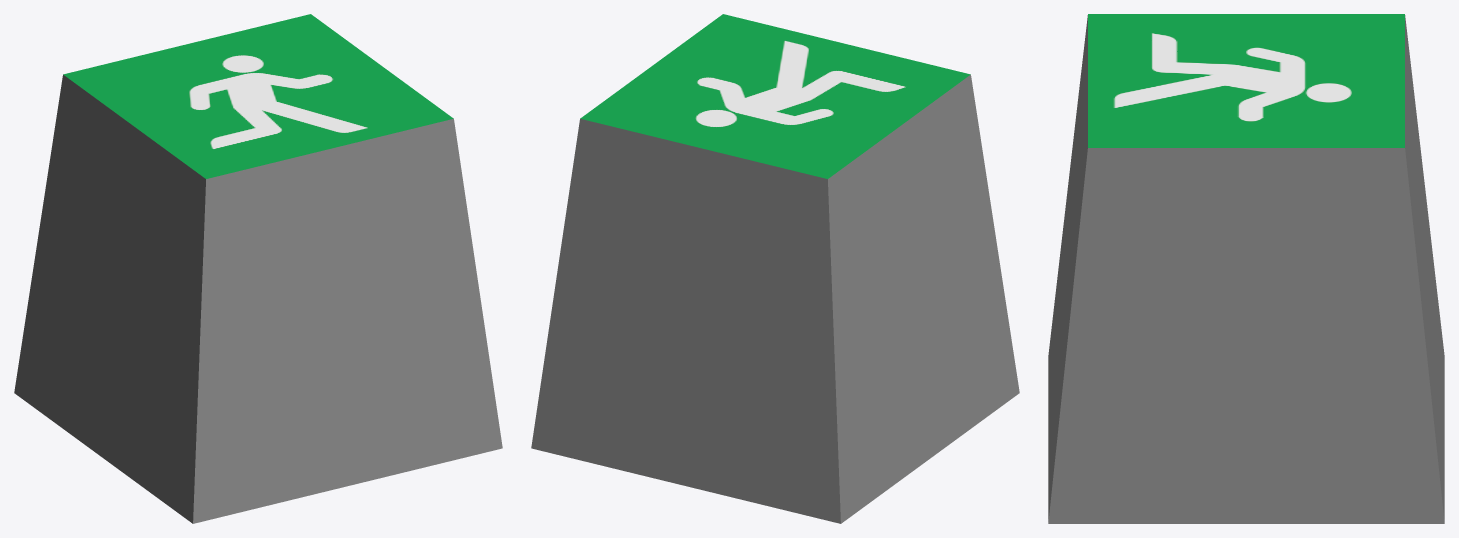
The model's file is KEY_letter_Wide_Exit.FBX.
3 renders of one model, left to right at view 1: azimuth 30°, elevation 25°; view 2: azimuth 150°, elevation 25°; view 3: azimuth 270°, elevation 25°, orthographic. The views are drawn at different scales.
Parts seen in each view (by area): view 1: KEY_letter_Wide; view 2: KEY_letter_Wide; view 3: KEY_letter_Wide.
Boxes of the visible parts, left/top/right/bottom form: KEY_letter_Wide: left=14, top=14, right=502, bottom=523; KEY_letter_Wide: left=531, top=14, right=1019, bottom=523; KEY_letter_Wide: left=1048, top=14, right=1444, bottom=523.
Bounding box in the file's own units: 645 × 645 × 645.
2 materials, 1 textured.
